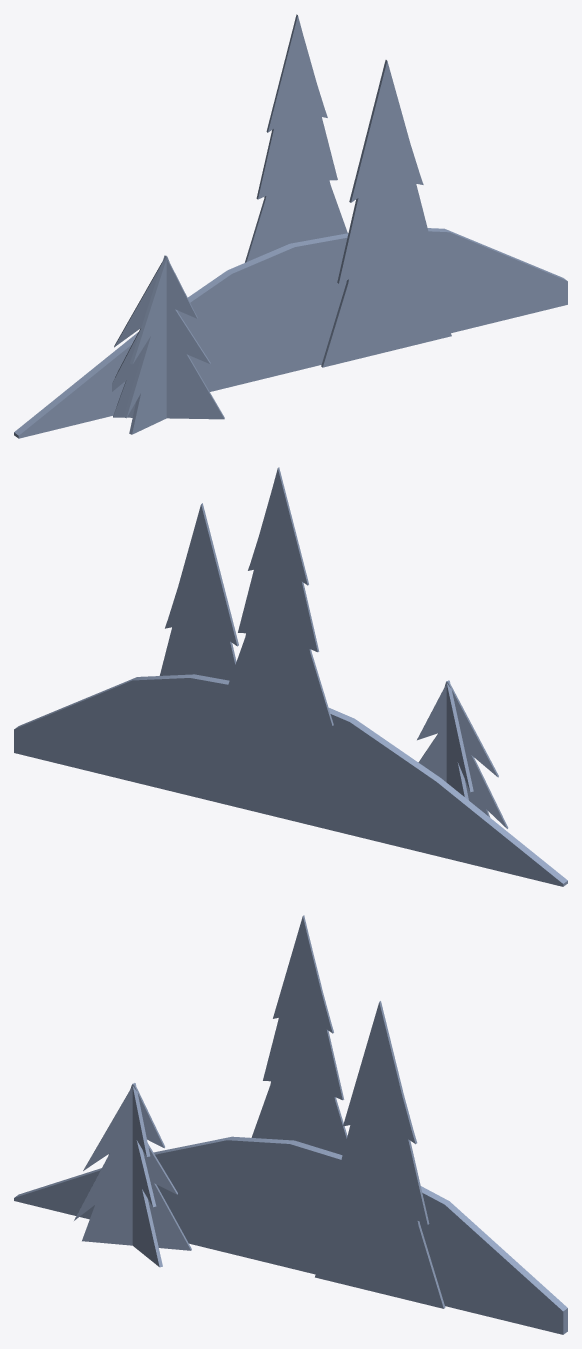
Rendered from frame_0038.glb.
3 renders of one model, top to bottom at view 1: azimuth 30°, elevation 25°; view 2: azimuth 150°, elevation 25°; view 3: azimuth 330°, elevation 25°, orthographic.
Visible parts, largest first — view 1: export_trees_001.002; view 2: export_trees_001.002; view 3: export_trees_001.002.
Boxes of the visible parts, x1,y1,x2,y2 form: export_trees_001.002: [14, 14, 567, 438]; export_trees_001.002: [14, 467, 567, 886]; export_trees_001.002: [14, 915, 567, 1334].
Bounding box in the file's own units: 0.4327 × 0.2652 × 0.0496.
